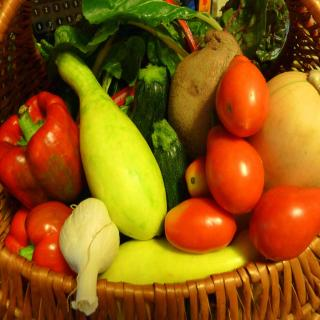tomato: (248, 186, 320, 266), (204, 126, 266, 212), (162, 197, 241, 258), (216, 56, 272, 137), (182, 157, 210, 202)
